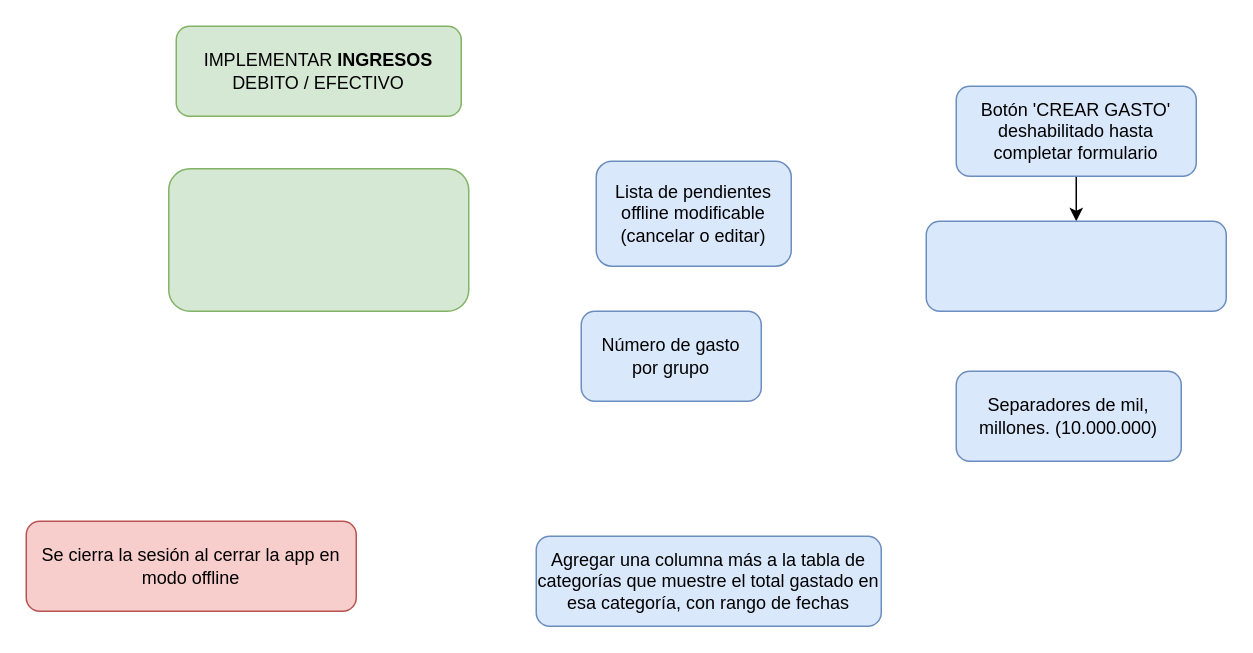
Image size: 1253x653. Some labels were removed from this diagram. The centre of each missing label's shape, as x and y in pixels:
"IMPLEMENTAR GRUPOS SIN PROVEEDORES OPCION DESDE EL FRONTEND SOLAMENTE" goes at pixel 318 239.
"Tipo de gasto deseleccionado al entrar al formulario" goes at pixel 1075 265.
